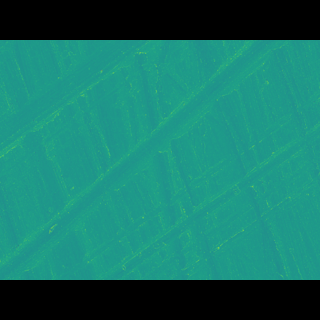Loch: (0, 70, 291, 250), (91, 128, 319, 250), (0, 69, 153, 156)
